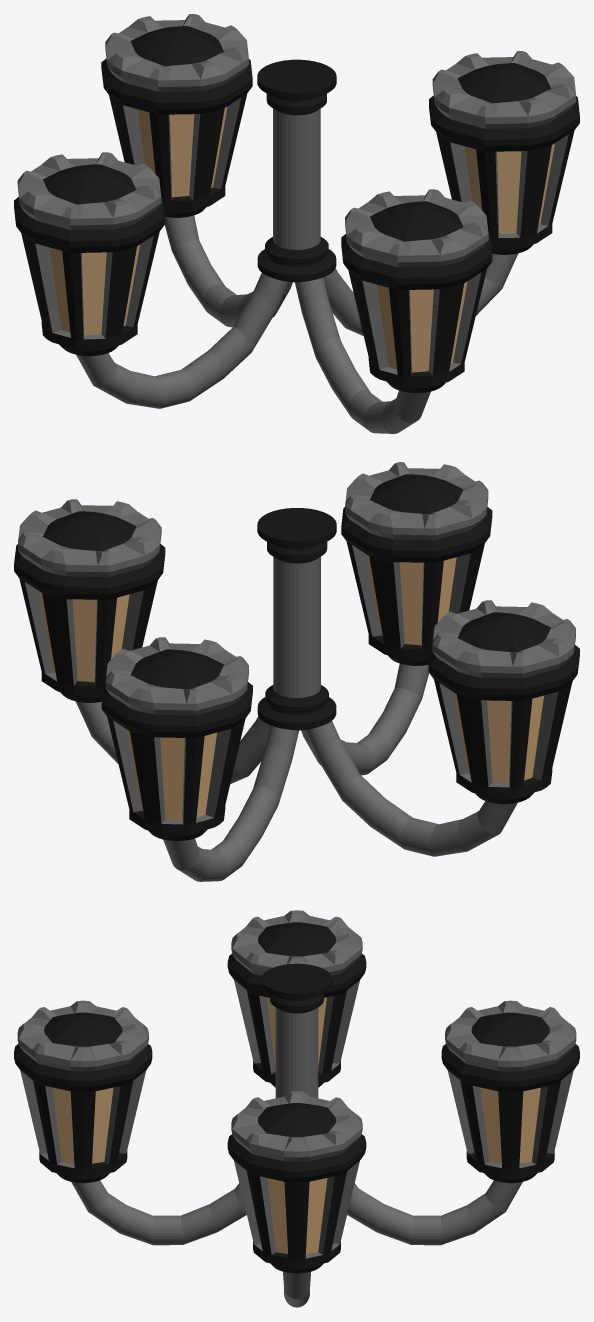
Rendered from ceilinglamp.fbx.
3 renders of one model, top to bottom at view 1: azimuth 30°, elevation 25°; view 2: azimuth 150°, elevation 25°; view 3: azimuth 270°, elevation 25°, orthographic. The views are drawn at different scales.
Parts seen in each view (by area): view 1: CeilingLamp1, CeilingLamp4, CeilingLamp3, CeilingLamp2, CeilingLampBase, CeilingLampHolder4, CeilingLampHolder1, CeilingLampHolder3, CeilingLampHolder2; view 2: CeilingLamp4, CeilingLamp3, CeilingLamp2, CeilingLamp1, CeilingLampBase, CeilingLampHolder4, CeilingLampHolder3, CeilingLampHolder1, CeilingLampHolder2; view 3: CeilingLamp2, CeilingLamp1, CeilingLamp3, CeilingLamp4, CeilingLampBase, CeilingLampHolder1, CeilingLampHolder3, CeilingLampHolder2.
Part boxes in pixels (x1,y1,x2,y2): CeilingLamp1: (341,189,492,386); CeilingLamp4: (14,152,164,348); CeilingLamp3: (101,14,252,210); CeilingLamp2: (429,51,579,247); CeilingLampBase: (257,59,336,282); CeilingLampHolder4: (59,273,288,408); CeilingLampHolder1: (295,277,445,433); CeilingLampHolder3: (164,207,292,327); CeilingLampHolder2: (323,244,533,335); CeilingLamp4: (428,600,579,796); CeilingLamp3: (101,637,252,833); CeilingLamp2: (14,499,165,695); CeilingLamp1: (341,462,492,658); CeilingLampBase: (257,508,336,730); CeilingLampHolder4: (305,721,534,856); CeilingLampHolder3: (148,725,298,881); CeilingLampHolder1: (301,655,429,775); CeilingLampHolder2: (60,692,270,783); CeilingLamp2: (227,1091,366,1267); CeilingLamp1: (14,1000,152,1177); CeilingLamp3: (441,1000,579,1177); CeilingLamp4: (227,910,366,1083); CeilingLampBase: (261,963,332,1098); CeilingLampHolder1: (56,1173,246,1245); CeilingLampHolder3: (347,1173,537,1245); CeilingLampHolder2: (270,1263,323,1307).
Size of the model in its own units: 356 by 184 by 356.
